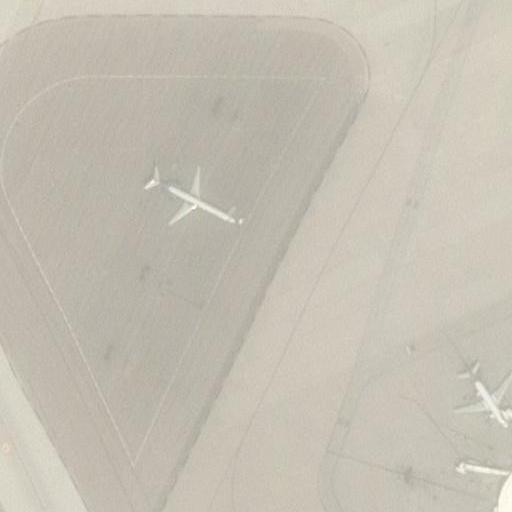Aircraft: (135, 163, 245, 241), (451, 366, 512, 439)
